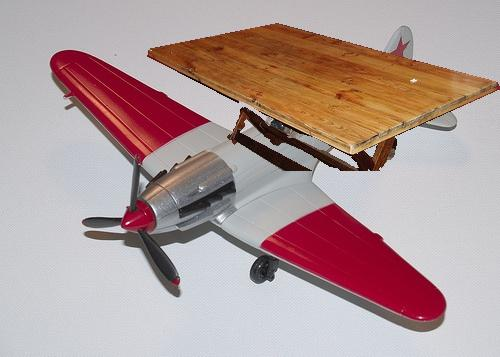tampered: (148, 24, 500, 171)
